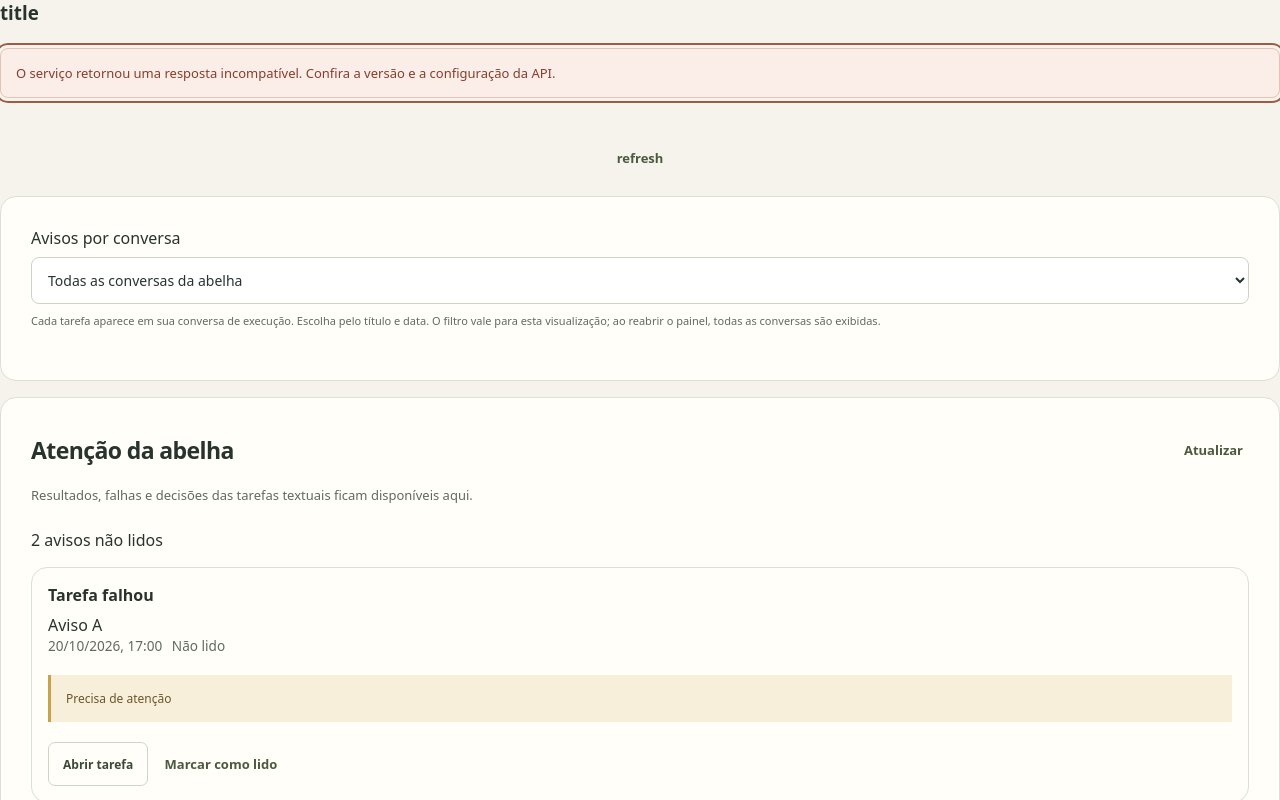
attention scope workspace › offers an owned human-readable scope in pt-BR without writes
Select "Conversa <script> · 20/10/2026, 17:00" in the dropdown at (640, 281), box 31,257 -> 1249,304
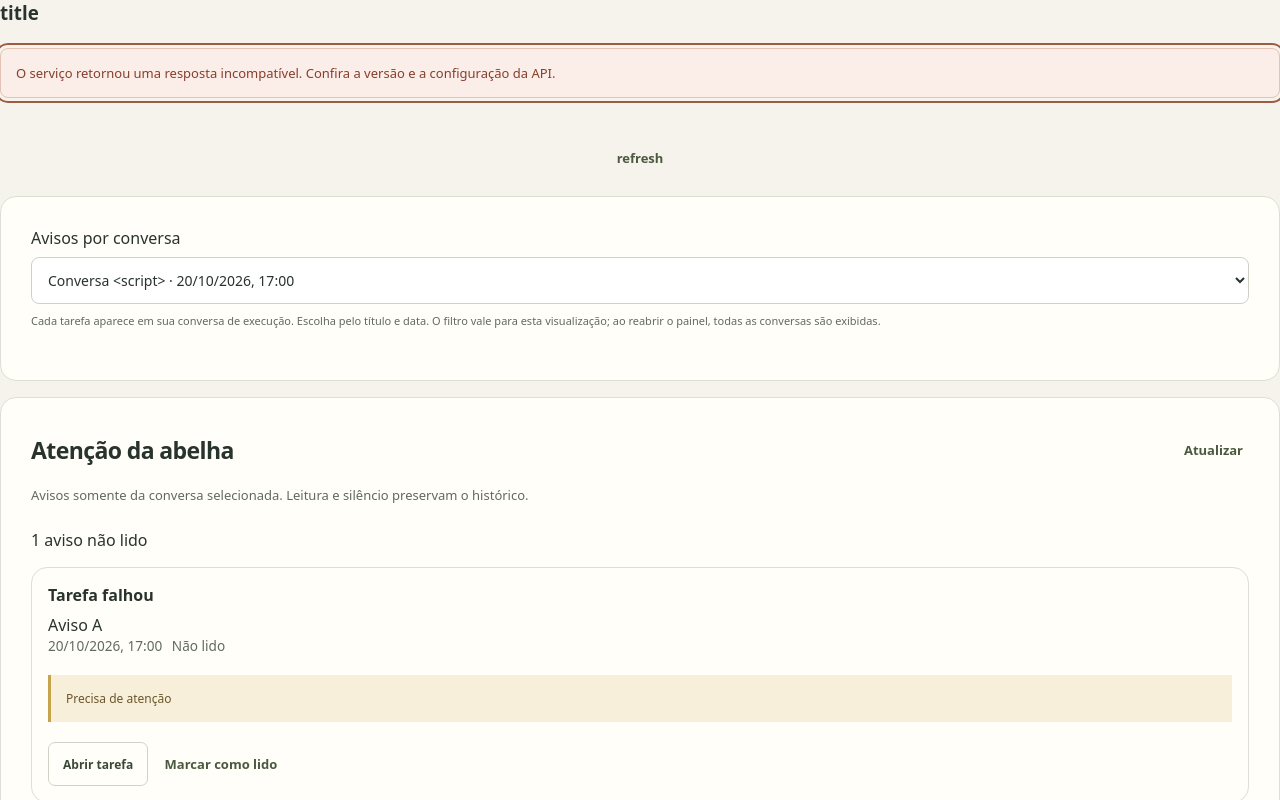
Expected: the list with class "attention-list" shows "Aviso A", 48,614 -> 102,636
Expected: the list with class "attention-list" does not show "Aviso B"
Select "Conversa B · 20/10/2026, 17:00" in the dropdown at (640, 281), box 31,257 -> 1249,304
(page scrolled)
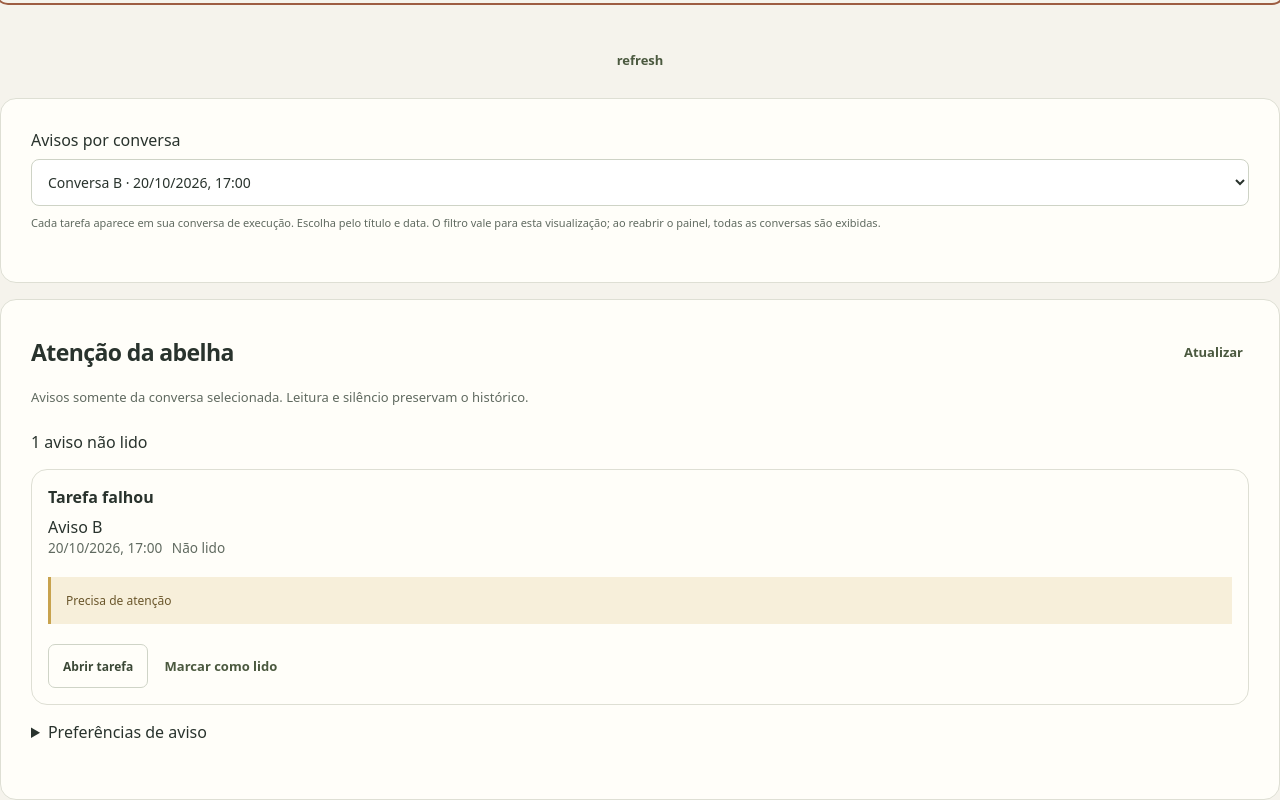
Expected: the list with class "attention-list" shows "Aviso B", 48,516 -> 102,538
